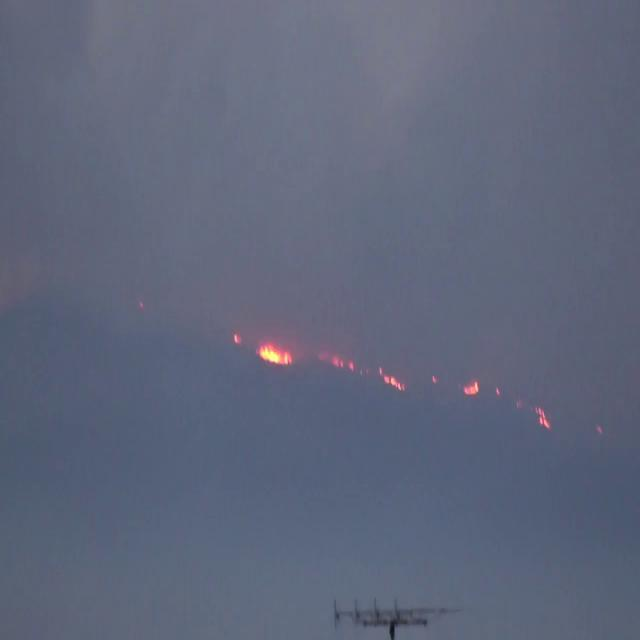Fire: (257, 342, 291, 366), (377, 364, 405, 392), (320, 348, 354, 370), (534, 406, 550, 430), (464, 382, 478, 396)
